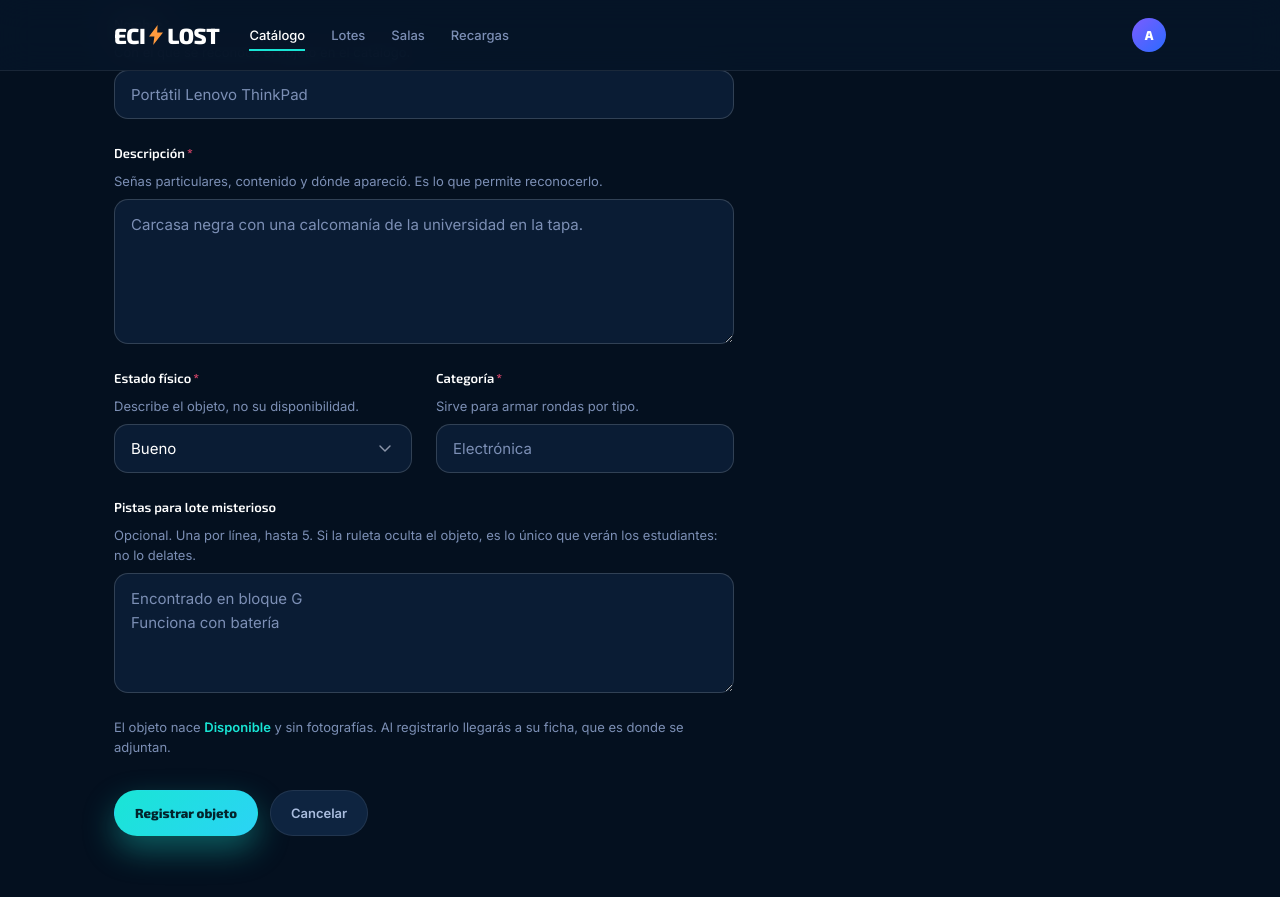
it: Registrar objeto › no sale a la red con campos vacios y dice cuales faltan
(page scrolled)
What coordinates should you click on to do the following:
click the button "Registrar objeto"
I would click on:
 (186, 813)
Its box is [114,790,258,836].
(page scrolled)
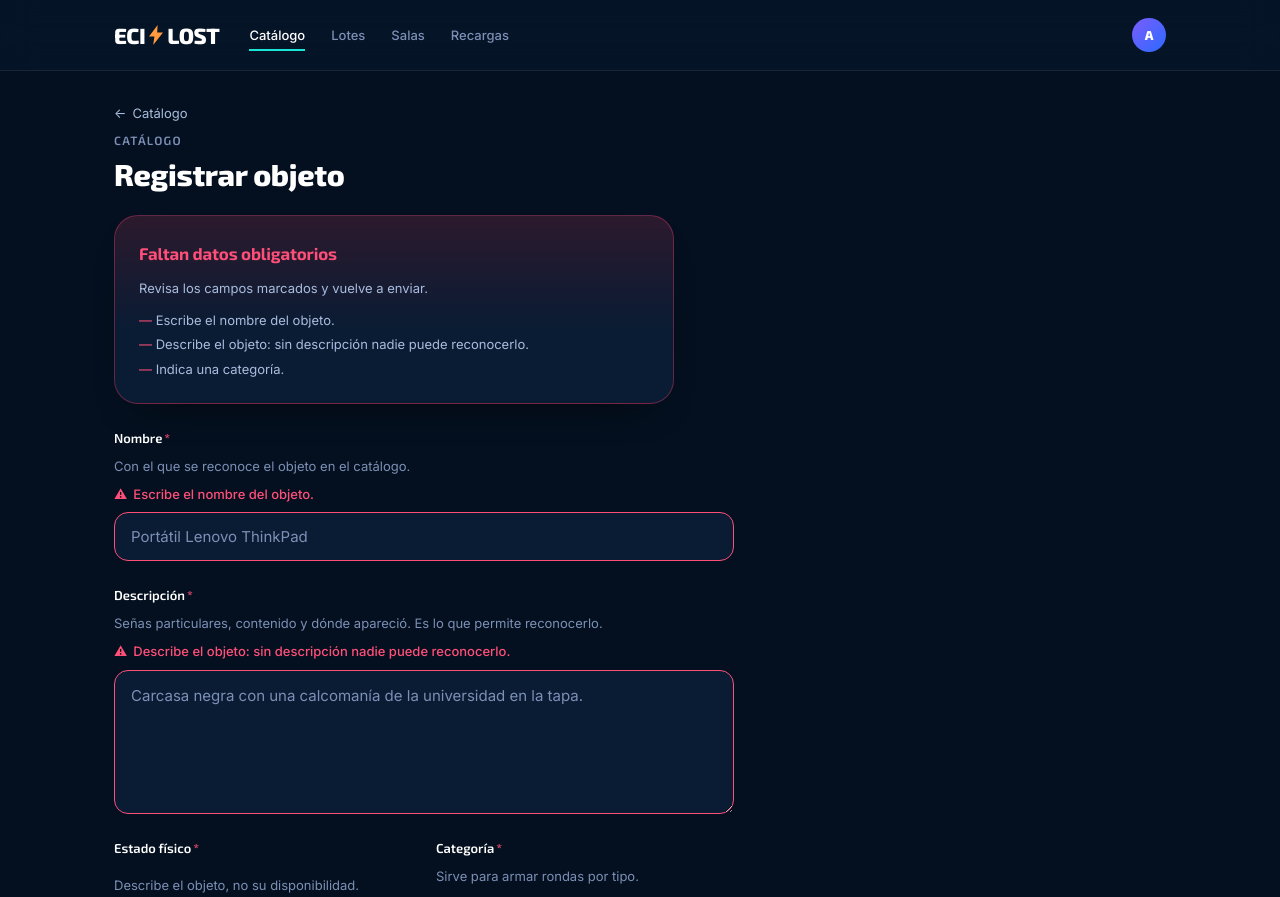
Result: the message shows "Faltan datos obligatorios" at [139,243,337,263]
